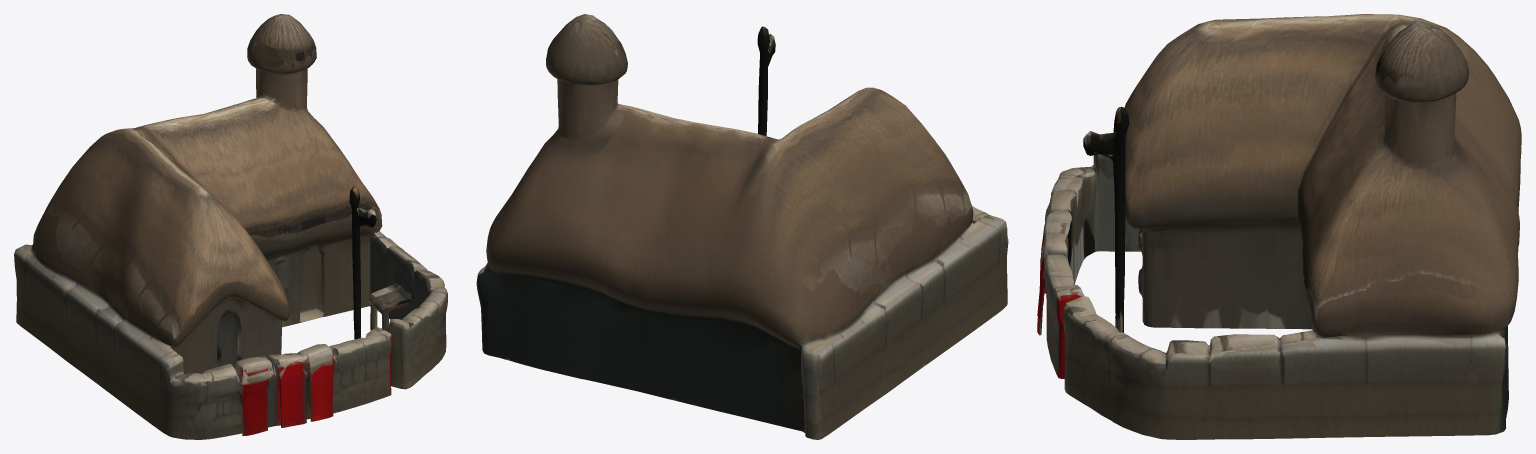
Rendered from etiopia_remonta.glb.
3 renders of one model, left to right at view 1: azimuth 30°, elevation 25°; view 2: azimuth 150°, elevation 25°; view 3: azimuth 270°, elevation 25°, orthographic. The views are drawn at different scales.
Parts seen in each view (by area): view 1: geometry_0; view 2: geometry_0; view 3: geometry_0.
Boxes of the visible parts, x1,y1,x2,y2 form: geometry_0: (14, 14, 447, 439); geometry_0: (476, 14, 1008, 439); geometry_0: (1037, 14, 1521, 439).
Size of the model in its own units: 3.34 by 2.88 by 3.4.
1 material, 1 textured.
